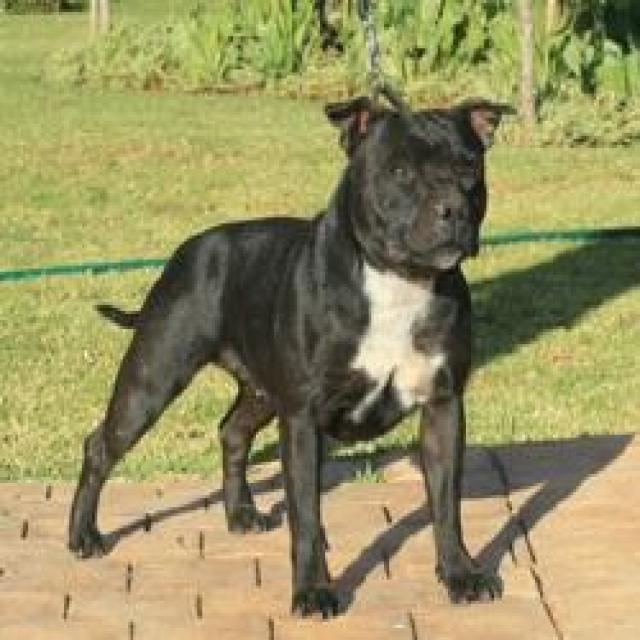staffordshire_bullterrier: (61, 81, 548, 631)
